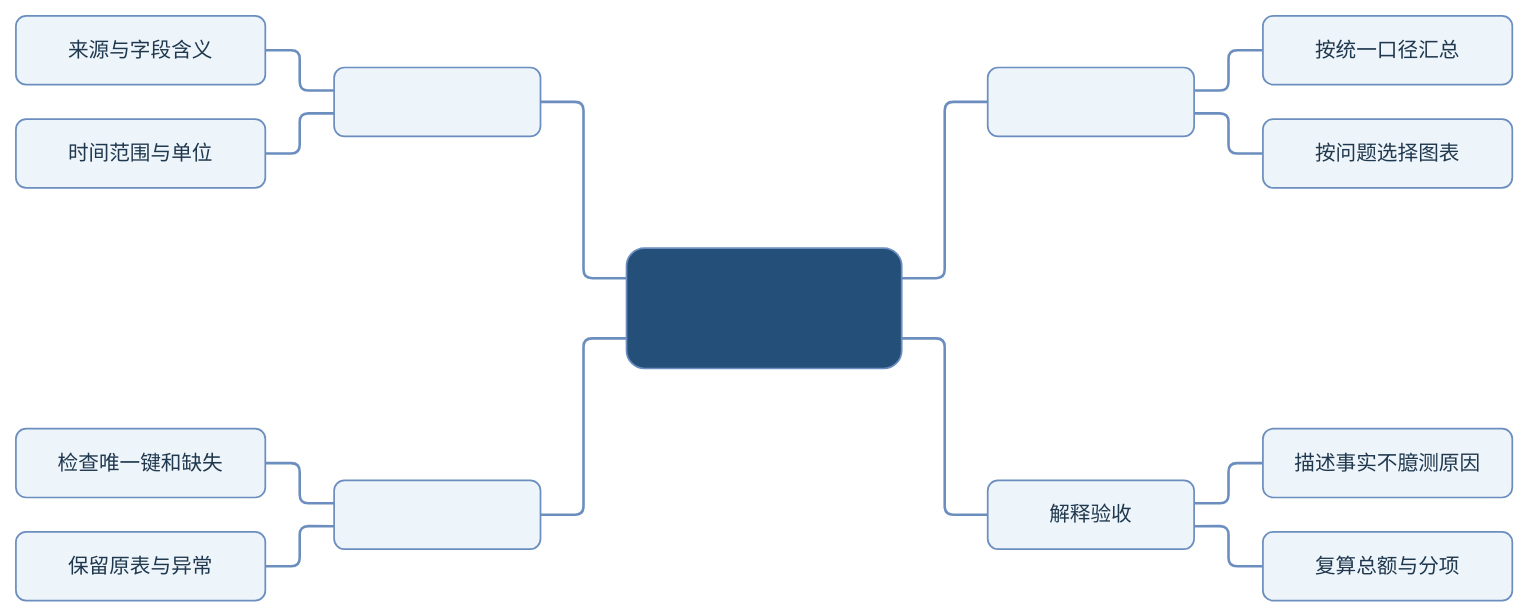
Some shapes in this 1527 by 616 pixel diagram are drawn without their labels. The shapes that lost their labels are listed below. From the top down, each one's centre as x and y in pixels, then its label:
pixel 437 101: 理解数据
pixel 1090 101: 计算展示
pixel 763 308: 第6章 表格与数据分析
pixel 437 514: 清洗记录
